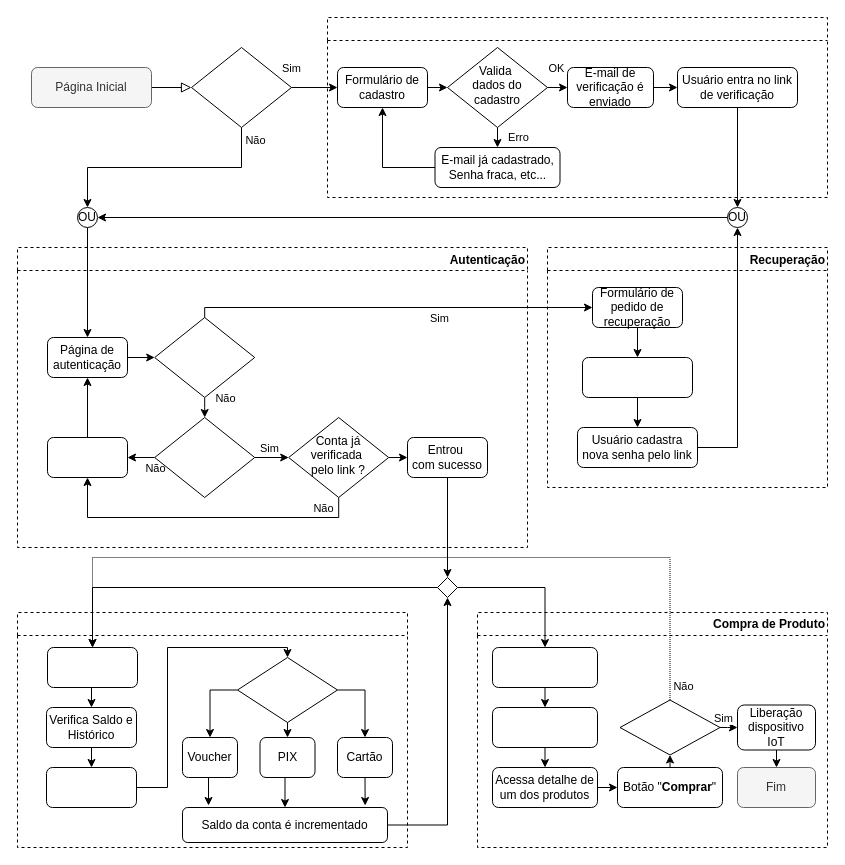
Image size: 845x865. Some labels were removed from this diagram. The box of each missing label's shape, as (x1, y1, x2, y2) in pixels:
Acessa detalhe do Ponto de Venda: (492, 706, 598, 748)
Cadastro: (326, 16, 828, 198)
Clica em " Adicionar ": (46, 766, 136, 808)
Digitou a senha correta ?: (154, 416, 255, 498)
E-mail de recuperação é enviado: (582, 356, 692, 398)
Esqueceu a senha ?: (154, 316, 255, 398)
Exibe erro: (46, 436, 128, 478)
Gestão do Saldo: (16, 612, 408, 848)
Meio de Pagamento: (236, 656, 338, 722)
Página de Extrato: (46, 646, 138, 688)
Página de Listagem dos Pontos de Venda: (492, 646, 598, 688)
Saldo suficiente ?: (619, 699, 720, 755)
Usuário é novo?: (190, 46, 292, 128)
